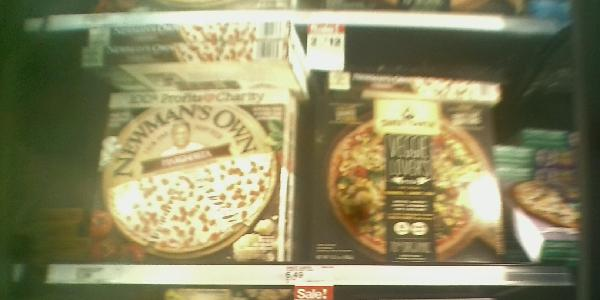pizza: (313, 96, 509, 258), (105, 108, 288, 261), (308, 68, 502, 99)
pizza1: (81, 46, 292, 68), (106, 91, 294, 110), (87, 27, 292, 41)
